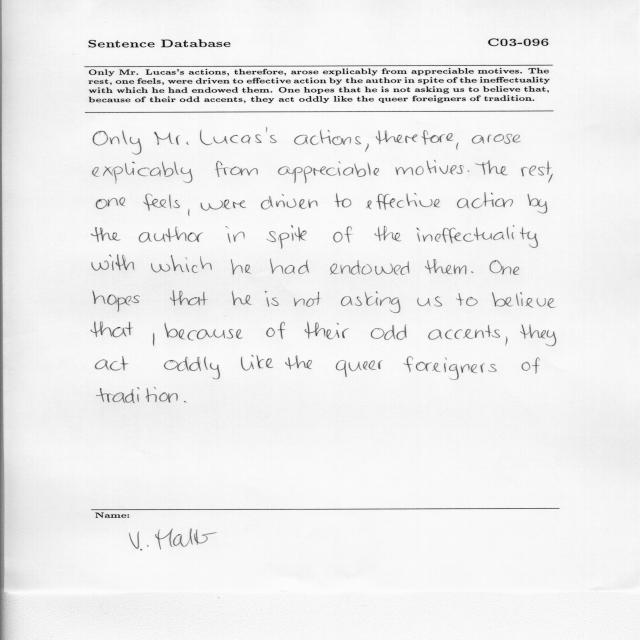word: (416, 225, 538, 248), (404, 356, 497, 380), (278, 162, 379, 184), (93, 162, 193, 184), (165, 323, 243, 340), (96, 387, 178, 403), (200, 128, 277, 145), (366, 193, 440, 210), (341, 292, 400, 313), (164, 357, 220, 379), (330, 260, 409, 275), (93, 130, 142, 154), (376, 130, 453, 145), (151, 255, 212, 273), (428, 325, 500, 340), (294, 129, 361, 145), (395, 160, 464, 175), (93, 291, 140, 313), (139, 227, 203, 243), (492, 292, 555, 308), (266, 225, 307, 249), (261, 194, 318, 209), (457, 193, 513, 208), (336, 360, 382, 377), (521, 325, 557, 346), (305, 322, 349, 339), (92, 254, 135, 271), (215, 161, 258, 177), (91, 322, 133, 338), (143, 194, 180, 211), (270, 258, 309, 274), (425, 259, 466, 274), (170, 290, 208, 306), (371, 324, 407, 340), (475, 160, 508, 176), (241, 355, 273, 371), (521, 161, 552, 177), (201, 200, 246, 211), (96, 356, 129, 371), (154, 131, 189, 145), (472, 134, 521, 144), (490, 260, 520, 275), (91, 227, 120, 242), (375, 226, 402, 241), (294, 292, 321, 307), (528, 194, 547, 214), (285, 356, 312, 370), (97, 197, 126, 209), (226, 226, 245, 243), (333, 226, 352, 243), (266, 322, 285, 339), (231, 259, 251, 275), (522, 357, 540, 374), (456, 293, 478, 306), (232, 291, 252, 305), (417, 296, 442, 307), (335, 193, 352, 207), (265, 291, 279, 307), (548, 173, 553, 183), (365, 143, 369, 152), (505, 337, 508, 346), (456, 143, 458, 150), (153, 333, 154, 346), (188, 209, 189, 216), (471, 271, 474, 273), (468, 170, 470, 172), (184, 401, 186, 403)
